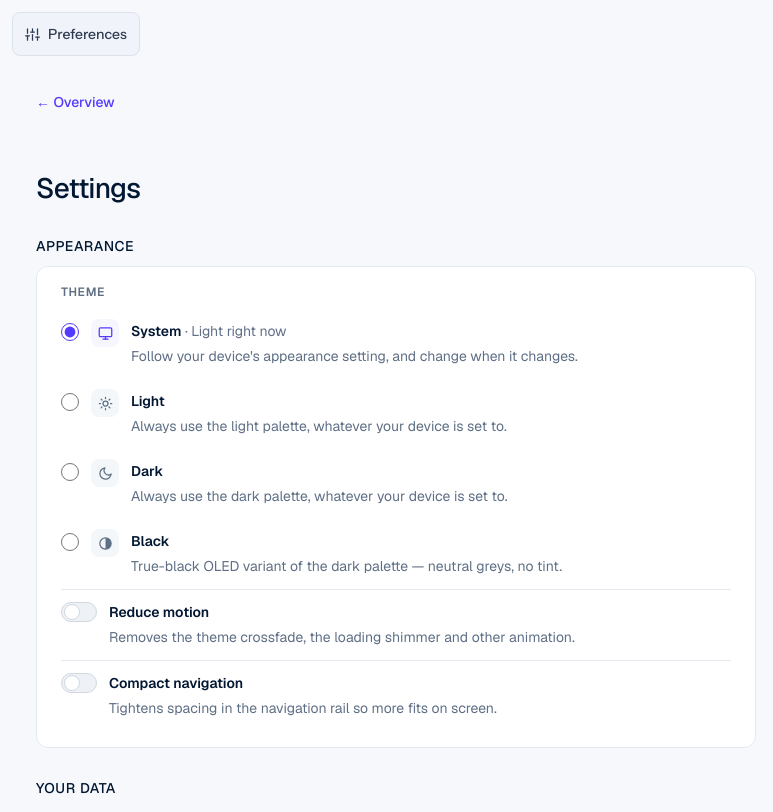
menu and route stay in sync › reflects a menu change in the route immediately
Click the button "Preferences": point(76, 34) [12, 12, 140, 56]
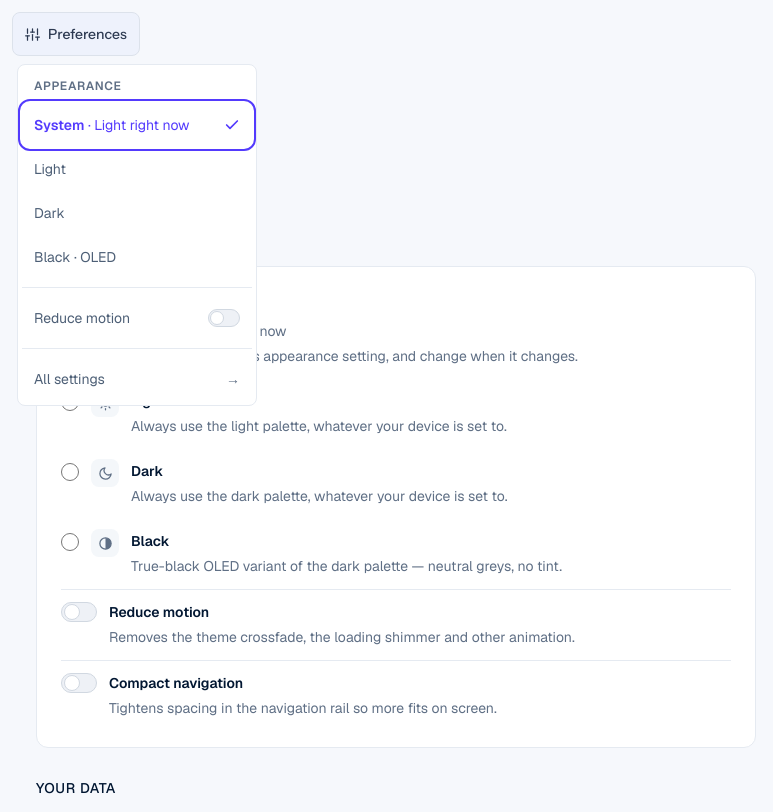
Click the menu item "Dark": point(137, 213) [22, 191, 252, 235]
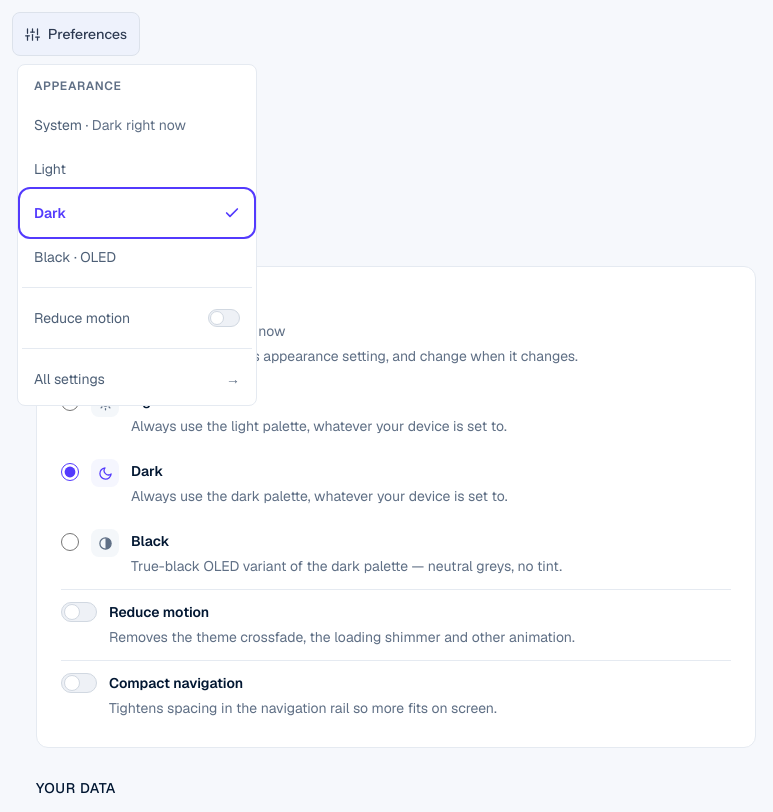
Expected: the radio button labelled "System · Dark right now" is not checked, [61, 323, 79, 341]
Expected: the radio button labelled "Dark" is checked, [61, 463, 79, 481]
